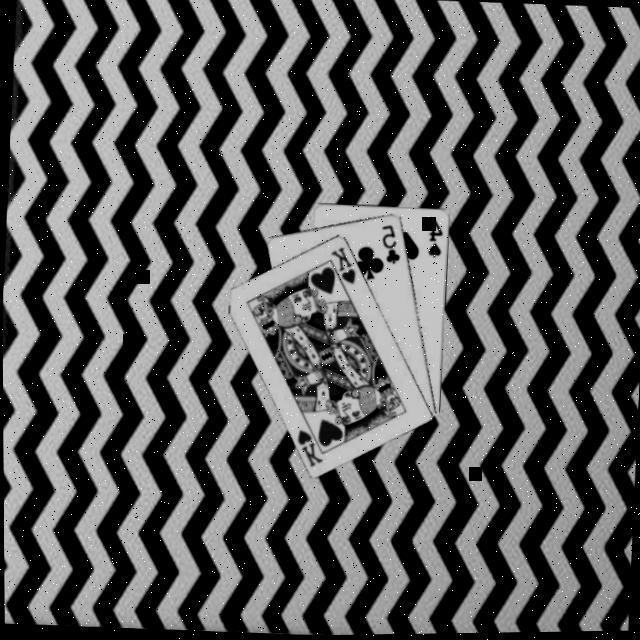4S: (423, 215, 445, 259)
5C: (376, 220, 404, 266)
KH: (325, 242, 359, 286), (292, 425, 326, 469)
